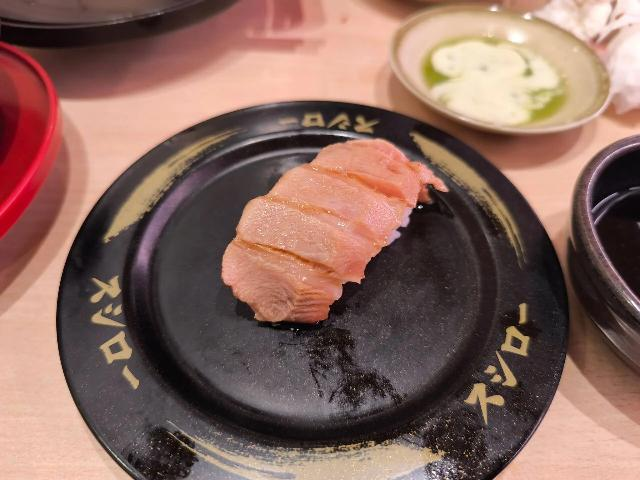janback: (90, 93, 551, 480), (0, 4, 247, 41)
janred: (0, 39, 61, 236)
